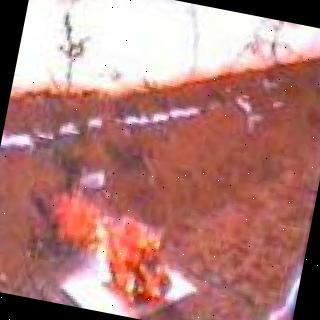fire: (34, 186, 188, 314)
